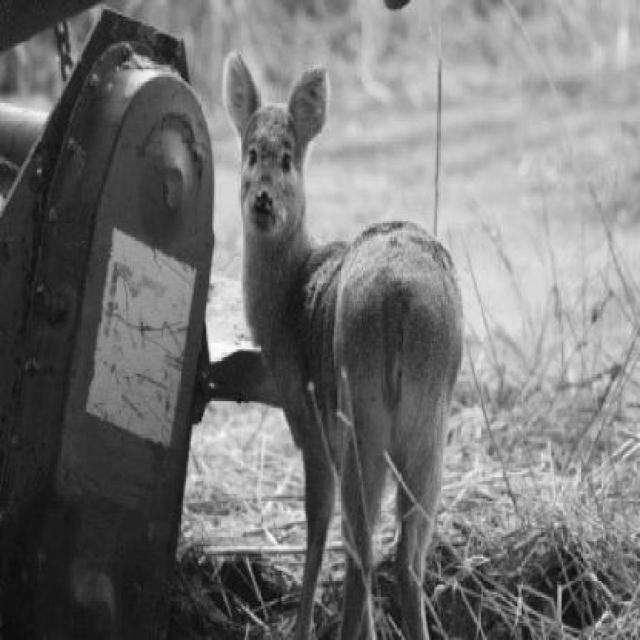Deer: (212, 43, 500, 639)
